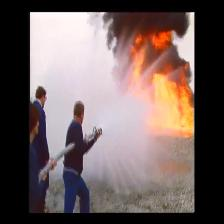fire: (154, 83, 196, 130)
smoke: (111, 14, 184, 63)
